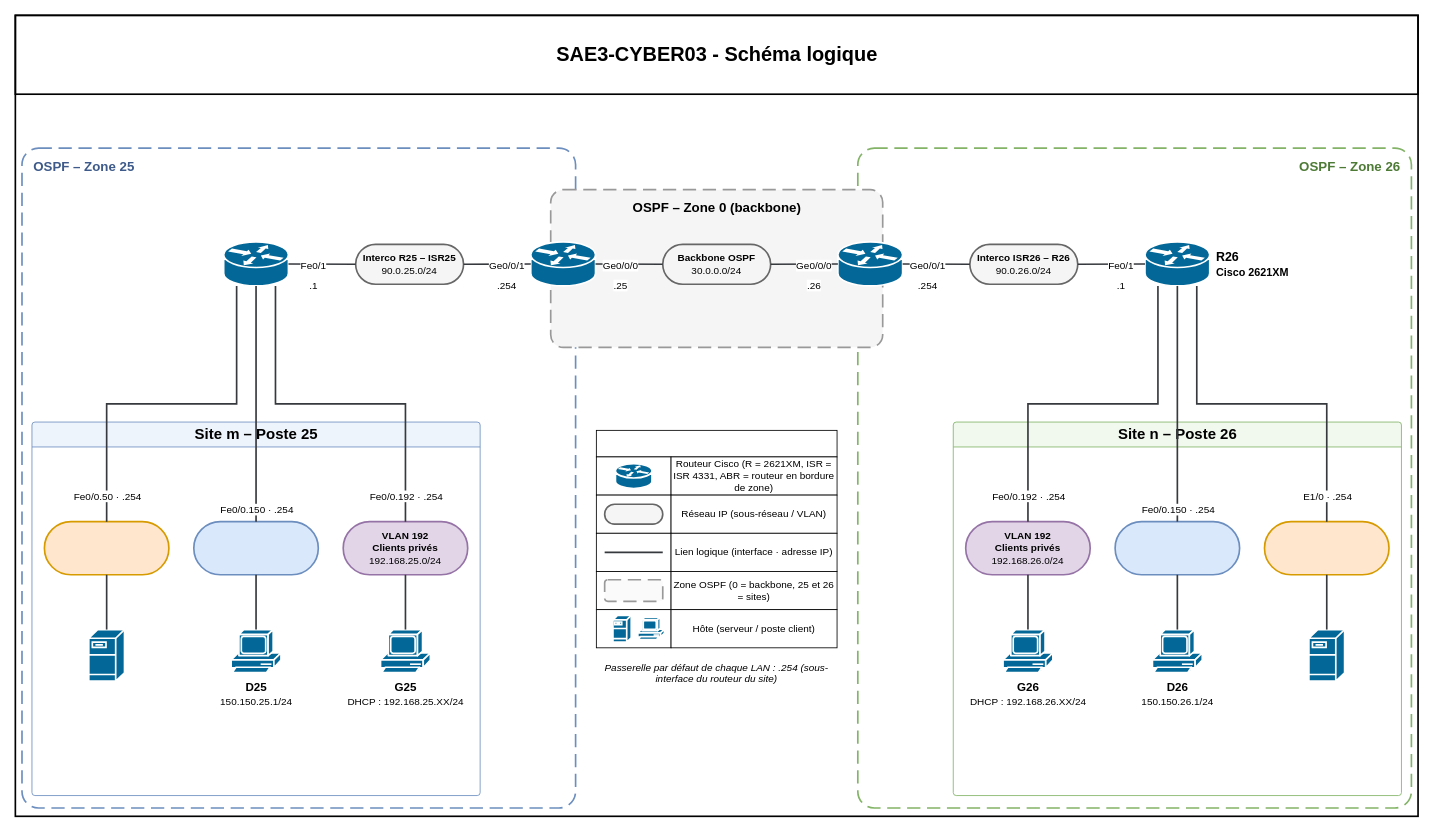
Some shapes in this 1433 by 831 pixel diagram are drawn without their labels. The centre of each missing label's shape, as x and y in pixels:
ISR25 ISR 4331 ABR (zone 0 / zone 25): (x=563, y=263)
ISR26 ISR 4331 ABR (zone 0 / zone 26): (x=870, y=263)
Légende: (x=716, y=443)
R25 Cisco 2621XM: (x=255, y=263)
S25 50.50.25.1/24: (x=106, y=654)
S26 50.50.26.1/24: (x=1326, y=654)
Serveurs publics (sans VLAN) 50.50.26.0/24: (x=1326, y=547)
VLAN 150 Clients publics 150.150.25.0/24: (x=256, y=547)
VLAN 150 Clients publics 150.150.26.0/24: (x=1177, y=547)
VLAN 50 Serveurs publics 50.50.25.0/24: (x=106, y=547)
